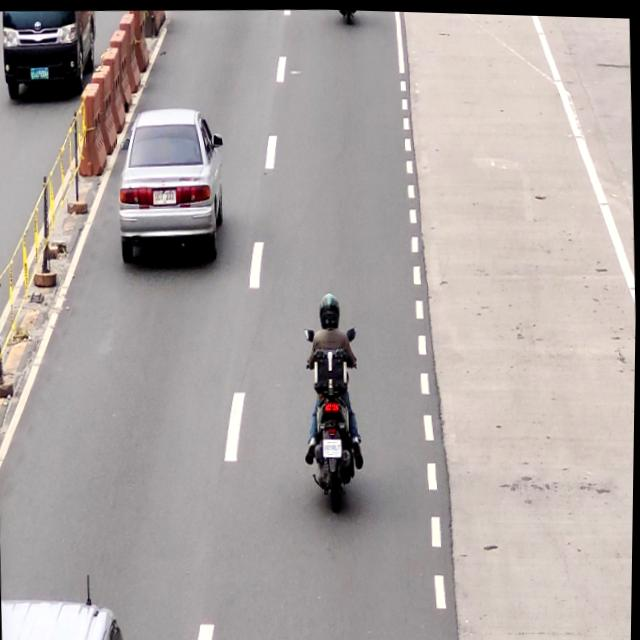Car: (113, 102, 225, 261)
License-Plate: (153, 183, 179, 207), (322, 434, 344, 456)
Motorcycle: (300, 289, 369, 513)
